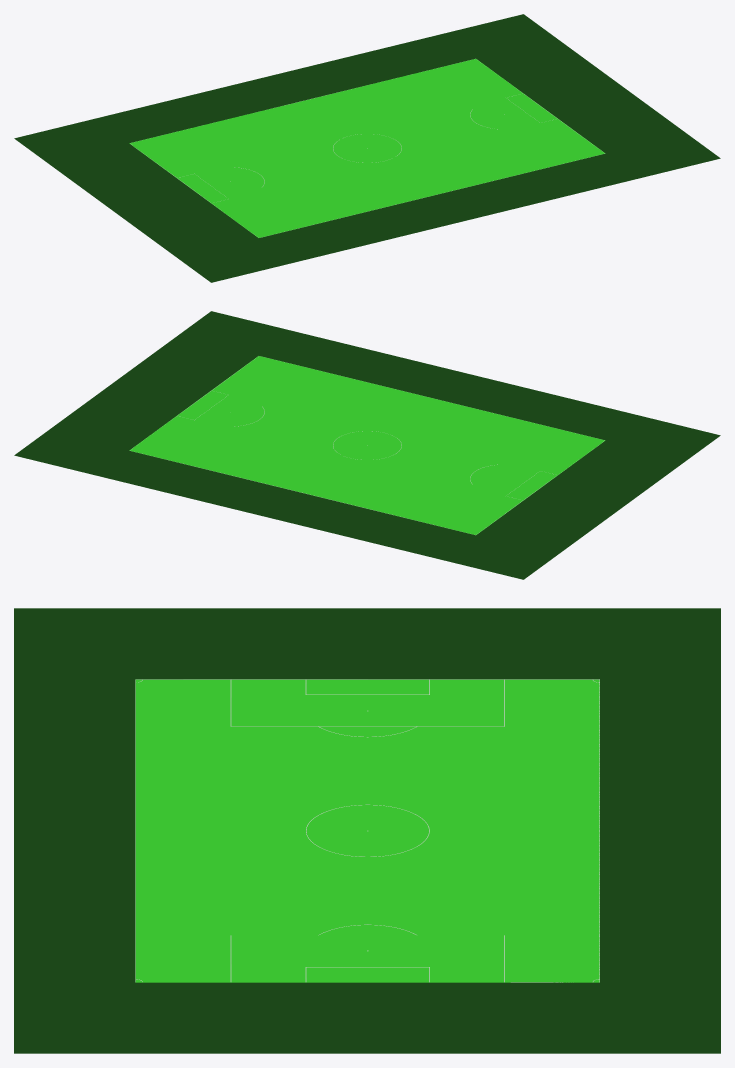
The model's file is campo.FBX.
The picture shows the model from 3 angles, top to bottom: view 1: azimuth 30°, elevation 25°; view 2: azimuth 150°, elevation 25°; view 3: azimuth 270°, elevation 25°; orthographic projection. The views are drawn at different scales.
Parts seen in each view (by area): view 1: Cesped; view 2: Cesped; view 3: Cesped, Lineas.
Boxes of the visible parts, x1=… form: Cesped: x1=14, y1=14, x2=720, y2=282; Cesped: x1=14, y1=311, x2=720, y2=579; Cesped: x1=14, y1=608, x2=720, y2=1053; Lineas: x1=135, y1=679, x2=599, y2=982.
Size of the model in its own units: 154 by 0.0137 by 103.
